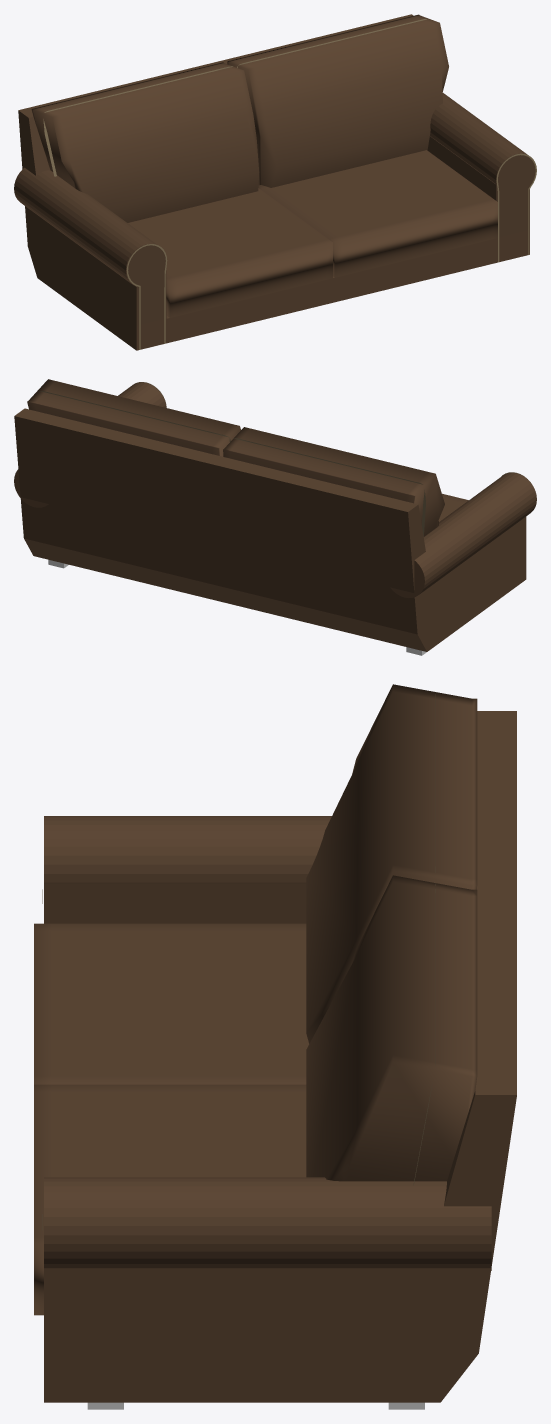
The model's file is couch4.dae.
The picture shows the model from 3 angles, top to bottom: view 1: azimuth 30°, elevation 25°; view 2: azimuth 150°, elevation 25°; view 3: azimuth 270°, elevation 25°; orthographic projection. The views are drawn at different scales.
Visible parts, largest first — view 1: couchbase, cushion_003, cushion_001, cushion_002, cushion, stitches_004, Circle, Circle_001; view 2: couchbase, cushion_001, cushion_003, stitches_004, cushion; view 3: couchbase, cushion, cushion_003, cushion_001, cushion_002.
Part boxes in pixels (x1,y1,x2,y2): couchbase: [14, 14, 535, 350]; cushion_003: [227, 14, 448, 187]; cushion_001: [31, 62, 259, 222]; cushion_002: [258, 150, 497, 277]; cushion: [128, 188, 332, 317]; stitches_004: [43, 66, 232, 176]; Circle: [126, 244, 167, 349]; Circle_001: [496, 153, 536, 262]; couchbase: [14, 382, 536, 651]; cushion_001: [223, 427, 444, 536]; cushion_003: [27, 379, 240, 456]; stitches_004: [234, 438, 425, 536]; cushion: [438, 493, 468, 521]; couchbase: [44, 711, 516, 1402]; cushion: [34, 923, 308, 1084]; cushion_003: [306, 875, 477, 1181]; cushion_001: [306, 684, 477, 1043]; cushion_002: [34, 1084, 306, 1315].
Bounding box in the file's own units: 1.98 × 1.01 × 0.8195.
